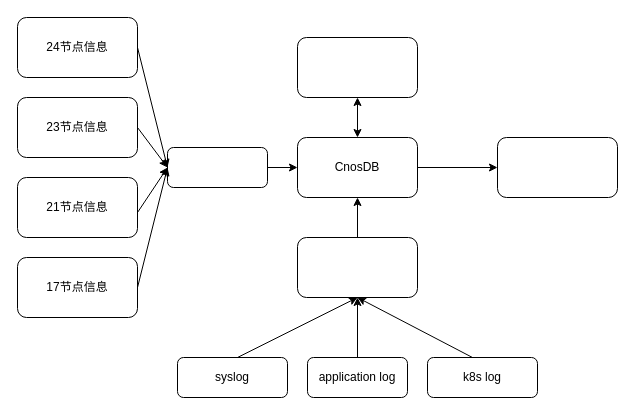
Some shapes in this 635 by 415 pixel diagram are drawn without their labels. The centre of each missing label's shape, as x and y in pixels:
"Alert" goes at point (357, 67).
"Grafana" goes at point (557, 167).
"KafKa" goes at point (217, 167).
"Vector" goes at point (357, 267).
